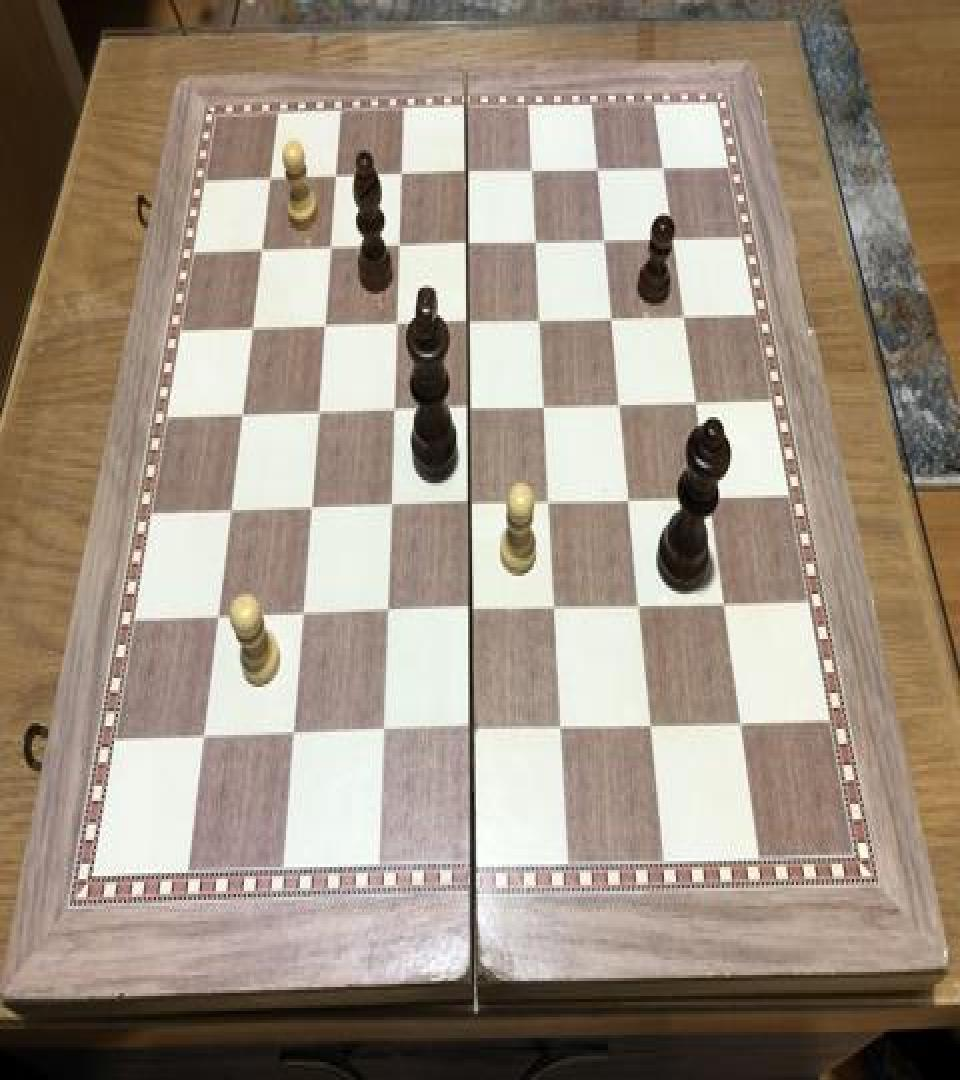xcorner: (458, 595, 482, 632), (549, 712, 573, 749), (282, 718, 306, 755), (650, 152, 674, 188), (585, 154, 609, 190), (519, 156, 543, 192), (454, 159, 478, 195), (389, 160, 413, 196), (325, 164, 349, 200), (260, 165, 284, 201), (660, 222, 684, 258), (592, 225, 616, 261), (523, 226, 547, 262), (455, 230, 479, 266), (387, 231, 411, 267), (319, 234, 343, 270), (252, 236, 276, 272), (671, 300, 695, 336), (599, 303, 623, 339), (527, 304, 551, 340), (456, 308, 480, 344), (384, 309, 408, 345), (313, 310, 337, 346), (242, 314, 266, 350), (684, 387, 708, 423), (608, 388, 632, 424), (532, 390, 556, 426), (457, 393, 481, 429), (381, 394, 405, 430), (307, 398, 331, 434), (232, 399, 256, 435), (697, 482, 721, 518), (617, 484, 641, 520), (537, 486, 561, 522), (457, 488, 481, 524), (378, 490, 402, 526), (299, 492, 323, 528), (220, 494, 244, 530), (712, 590, 736, 626), (627, 591, 651, 627), (543, 592, 567, 628), (375, 597, 399, 633), (291, 598, 315, 634), (208, 600, 232, 636), (730, 710, 754, 746), (639, 711, 663, 747), (460, 716, 484, 752), (370, 717, 394, 753), (193, 720, 217, 756)
